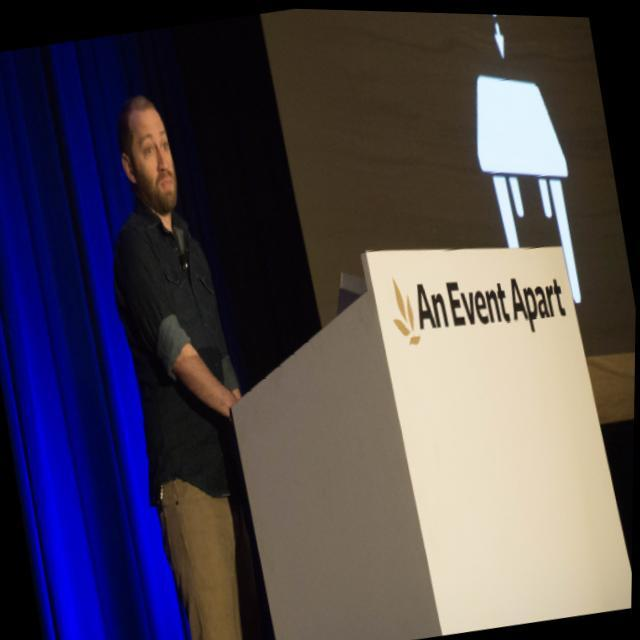Nonhelmet: (114, 91, 183, 217)
